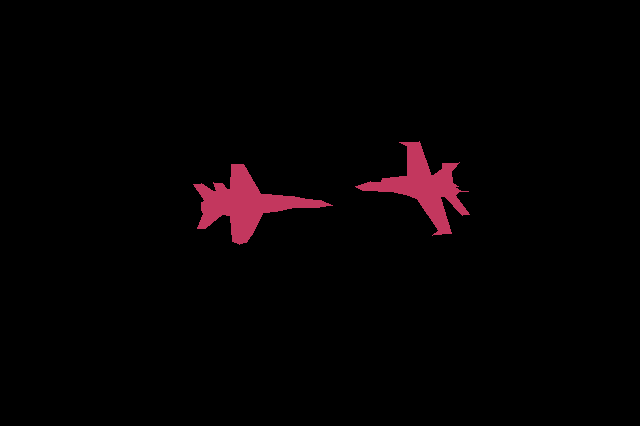Airplane: (193, 164, 332, 245), (355, 141, 469, 235)
